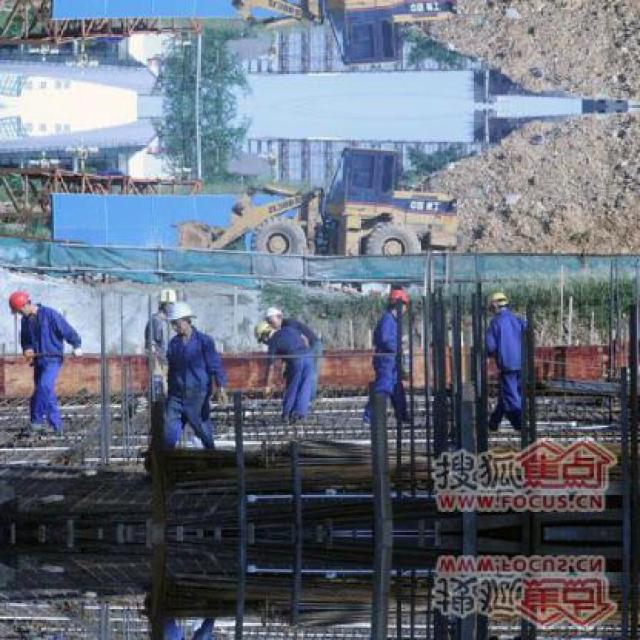helmet: (166, 302, 194, 335), (385, 285, 409, 315), (154, 287, 178, 316), (8, 291, 32, 315), (484, 288, 507, 312), (252, 322, 274, 343), (264, 306, 281, 326)
